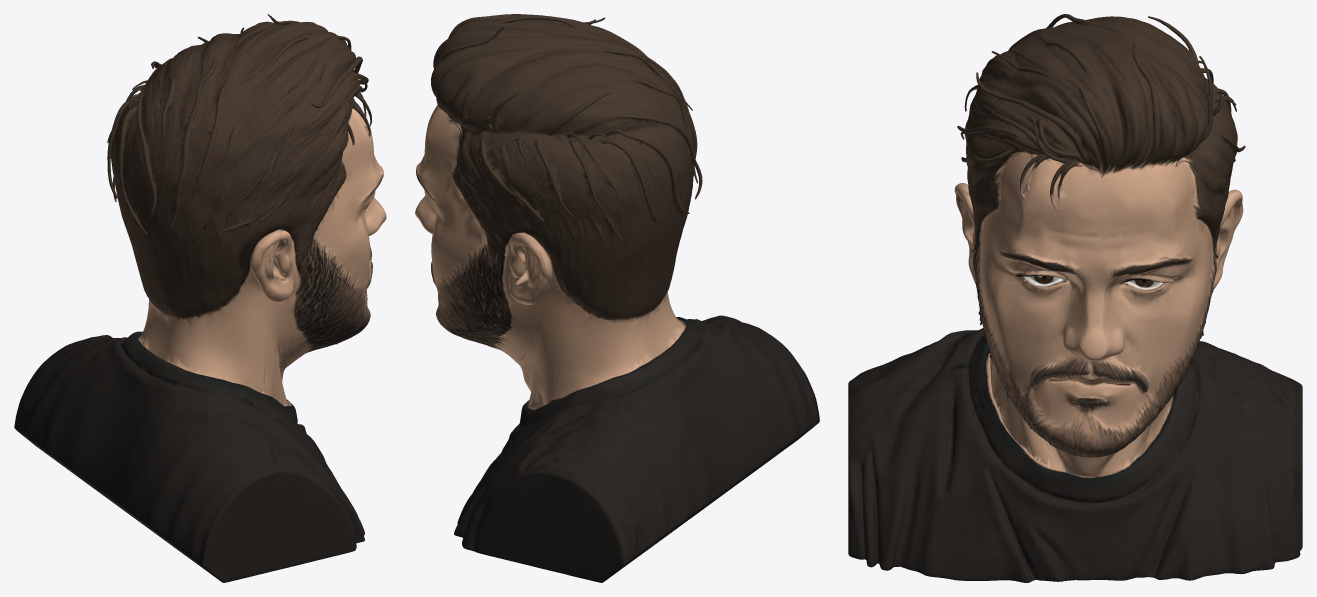
Rendered from parham-head-web.glb.
3 views of the same model, side by side, from view 1: azimuth 30°, elevation 25°; view 2: azimuth 150°, elevation 25°; view 3: azimuth 270°, elevation 25° (orthographic). The views are drawn at different scales.
Visible parts, largest first — view 1: tripo_node_0fe5aaf3-a371-431a-a6bc-97c9af4d8336; view 2: tripo_node_0fe5aaf3-a371-431a-a6bc-97c9af4d8336; view 3: tripo_node_0fe5aaf3-a371-431a-a6bc-97c9af4d8336.
Part boxes in pixels (<box>): tripo_node_0fe5aaf3-a371-431a-a6bc-97c9af4d8336: <box>14,14,386,582</box>; tripo_node_0fe5aaf3-a371-431a-a6bc-97c9af4d8336: <box>415,14,819,582</box>; tripo_node_0fe5aaf3-a371-431a-a6bc-97c9af4d8336: <box>848,14,1302,582</box>.
Size of the model in its own units: 0.7061 by 1 by 0.7728.
Materials: 1 (1 with a texture image).
